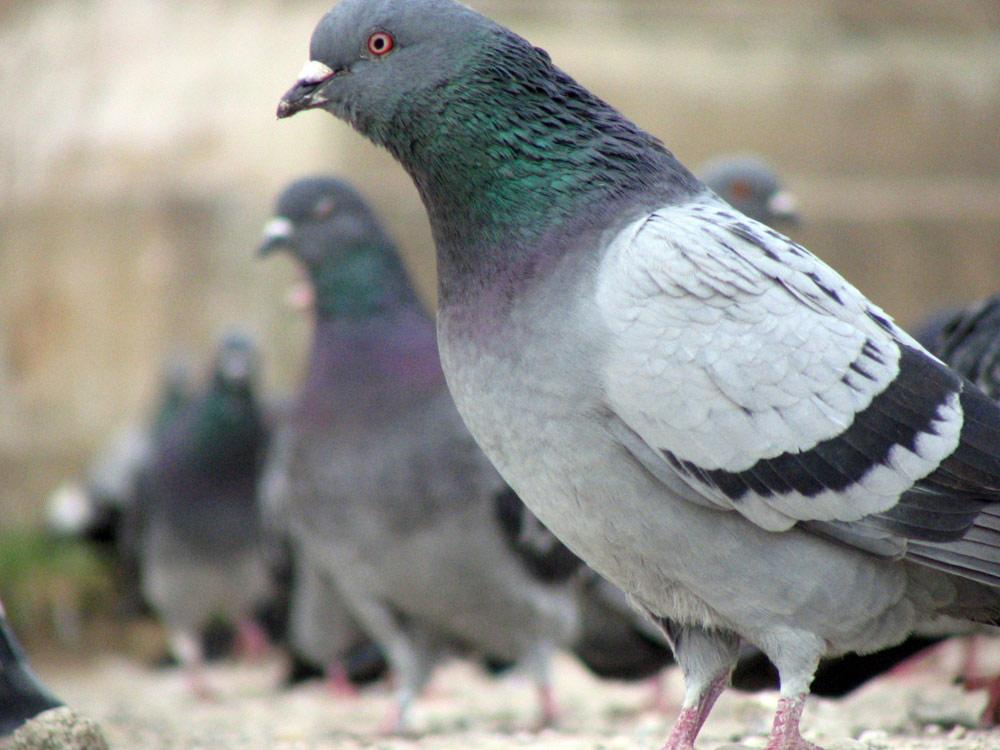Flying Rat: (298, 3, 1000, 735), (145, 336, 287, 662)
